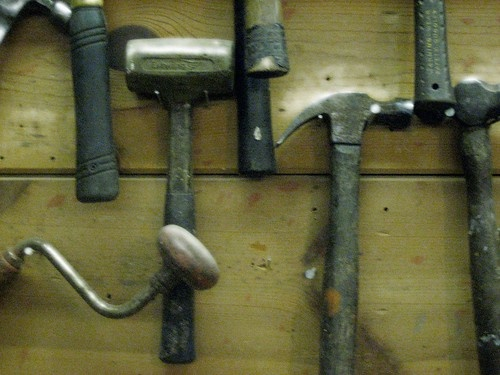hammer: (278, 90, 410, 375), (123, 37, 236, 368), (436, 75, 499, 375)
